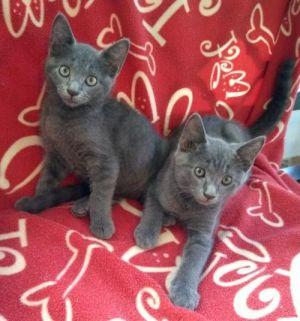rblue: (36, 8, 133, 121)
